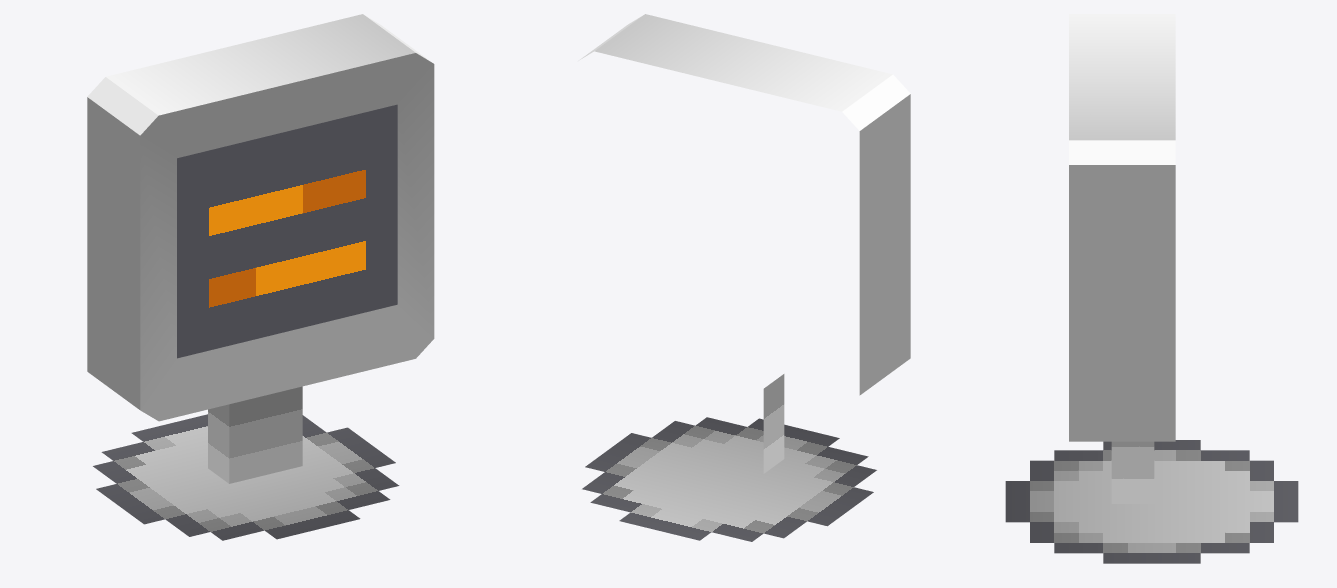
The picture shows the model from 3 angles, left to right: view 1: azimuth 30°, elevation 25°; view 2: azimuth 150°, elevation 25°; view 3: azimuth 270°, elevation 25°; orthographic projection. The views are drawn at different scales.
Size of the model in its own units: 1 by 1.37 by 1.
2 materials, 2 textured.
